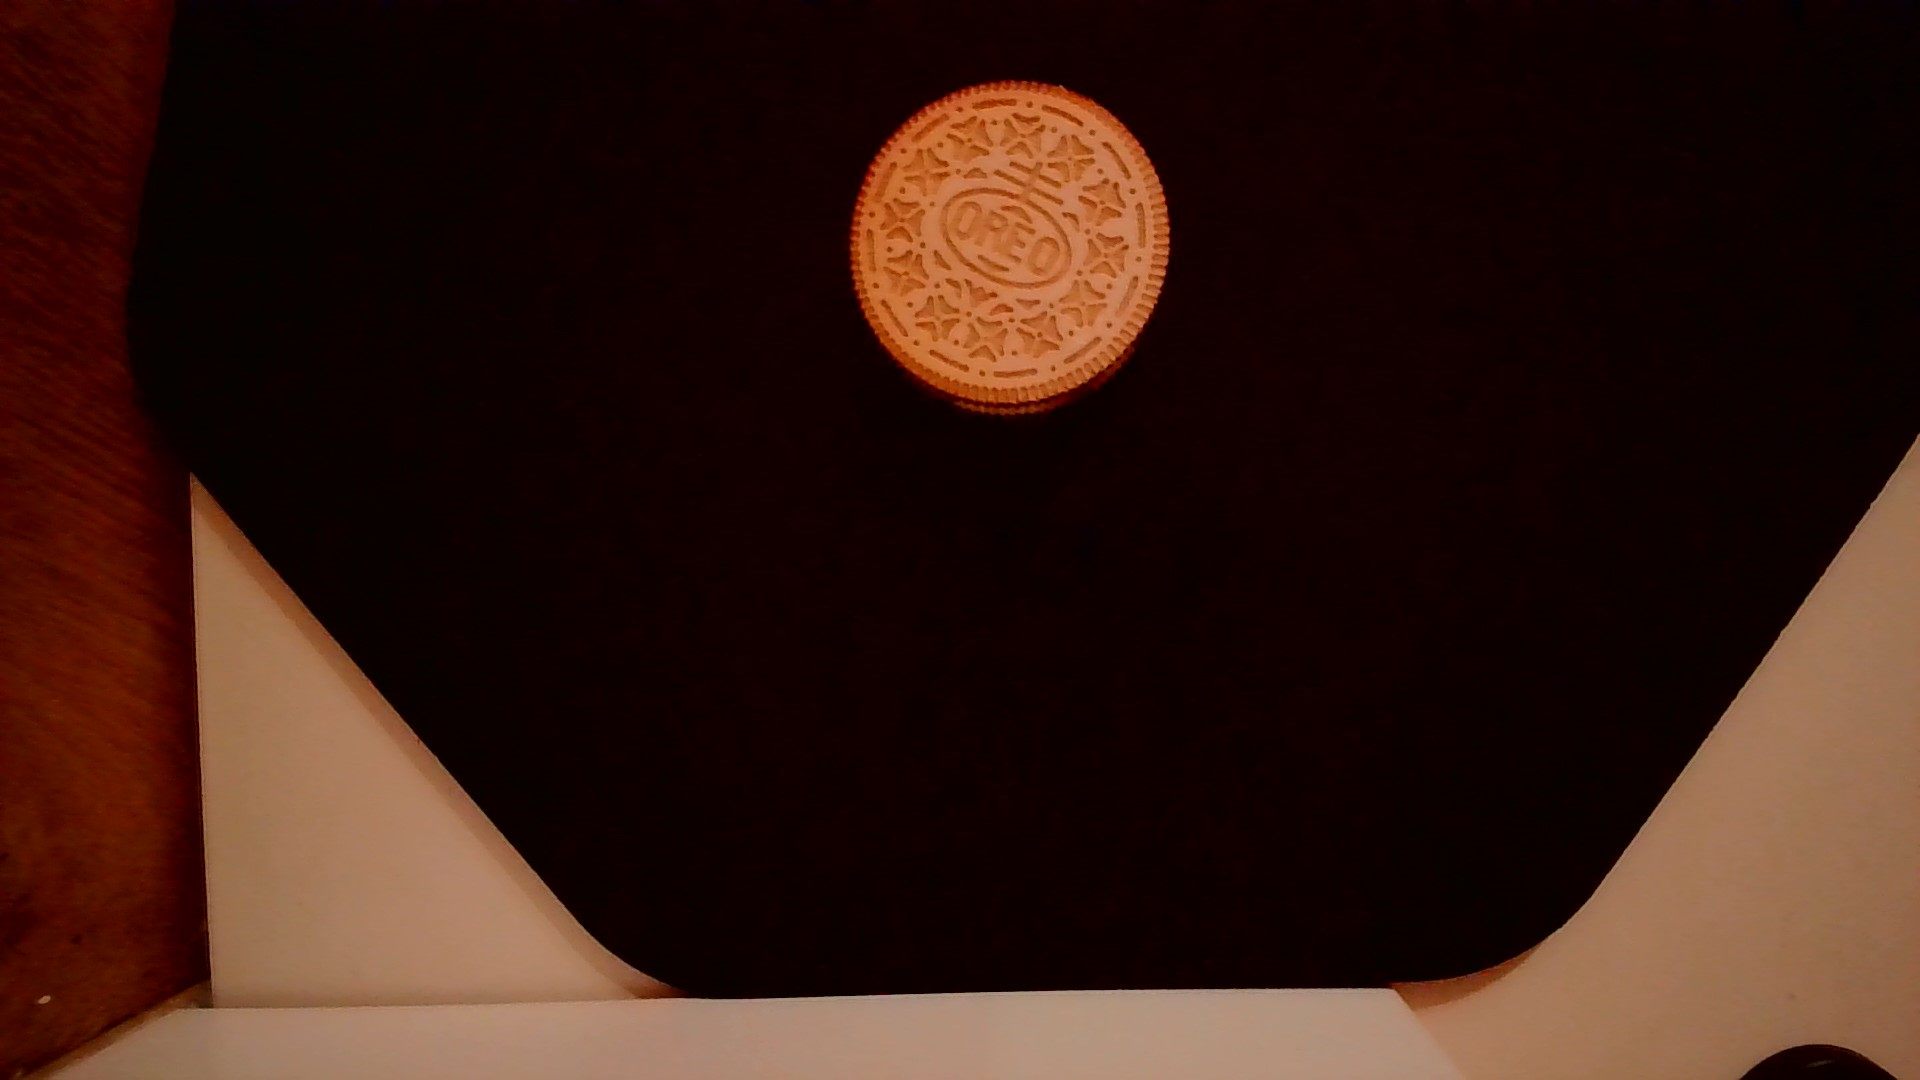Oréo: (840, 69, 1189, 426)
